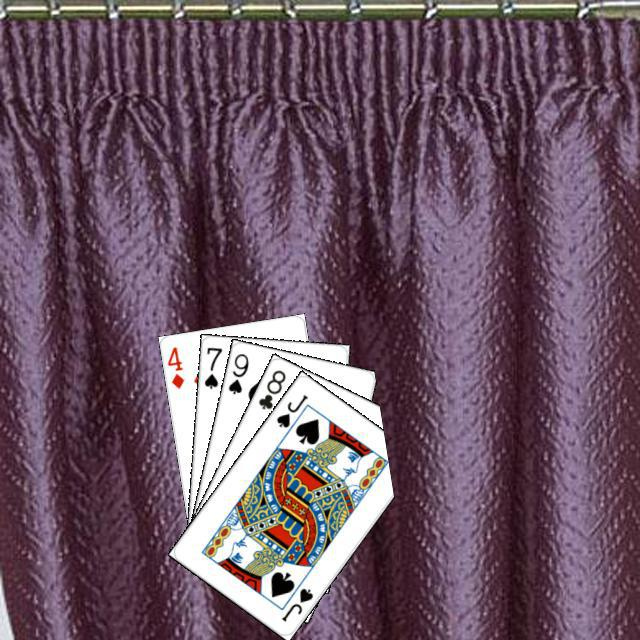4d: (163, 342, 186, 390)
7s: (199, 342, 224, 390)
8c: (253, 365, 287, 411)
9s: (223, 348, 250, 396)
Js: (276, 583, 315, 623), (272, 390, 309, 430)
